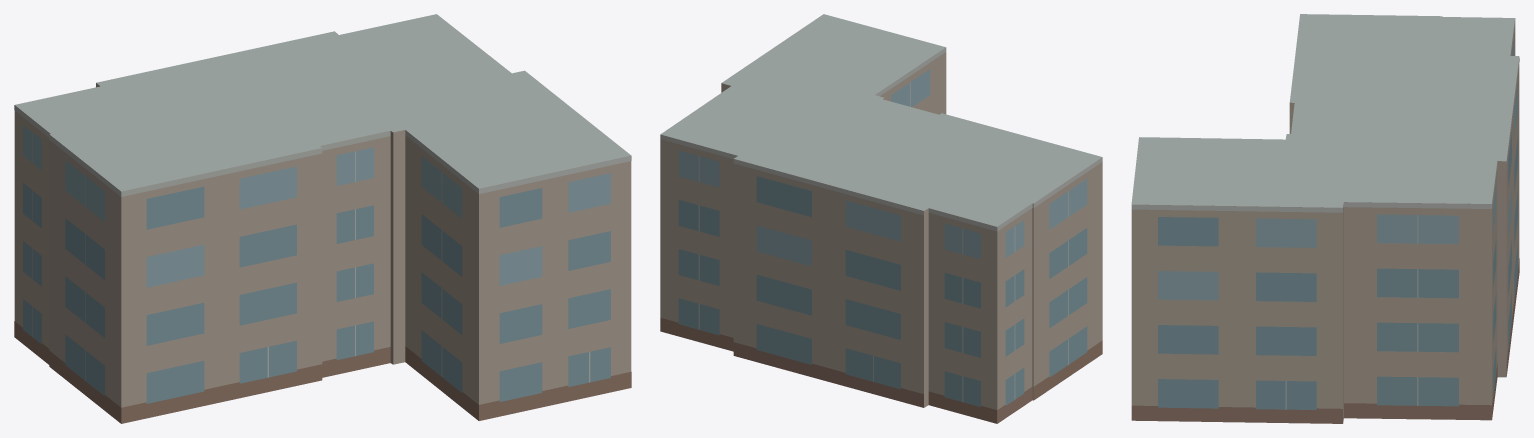
Rendered from survey-upis-33002367.glb.
The picture shows the model from 3 angles, left to right: view 1: azimuth 30°, elevation 25°; view 2: azimuth 150°, elevation 25°; view 3: azimuth 270°, elevation 25°; orthographic projection. The views are drawn at different scales.
Parts seen in each view (by area): view 1: survey-upis-33002367.tmp; view 2: survey-upis-33002367.tmp; view 3: survey-upis-33002367.tmp.
Part boxes in pixels (box(x1,y1,x2,y2)): survey-upis-33002367.tmp: box(14, 14, 631, 423); survey-upis-33002367.tmp: box(660, 14, 1102, 423); survey-upis-33002367.tmp: box(1131, 14, 1519, 423).
Bounding box in the file's own units: 20.19 × 10.5 × 17.09.
